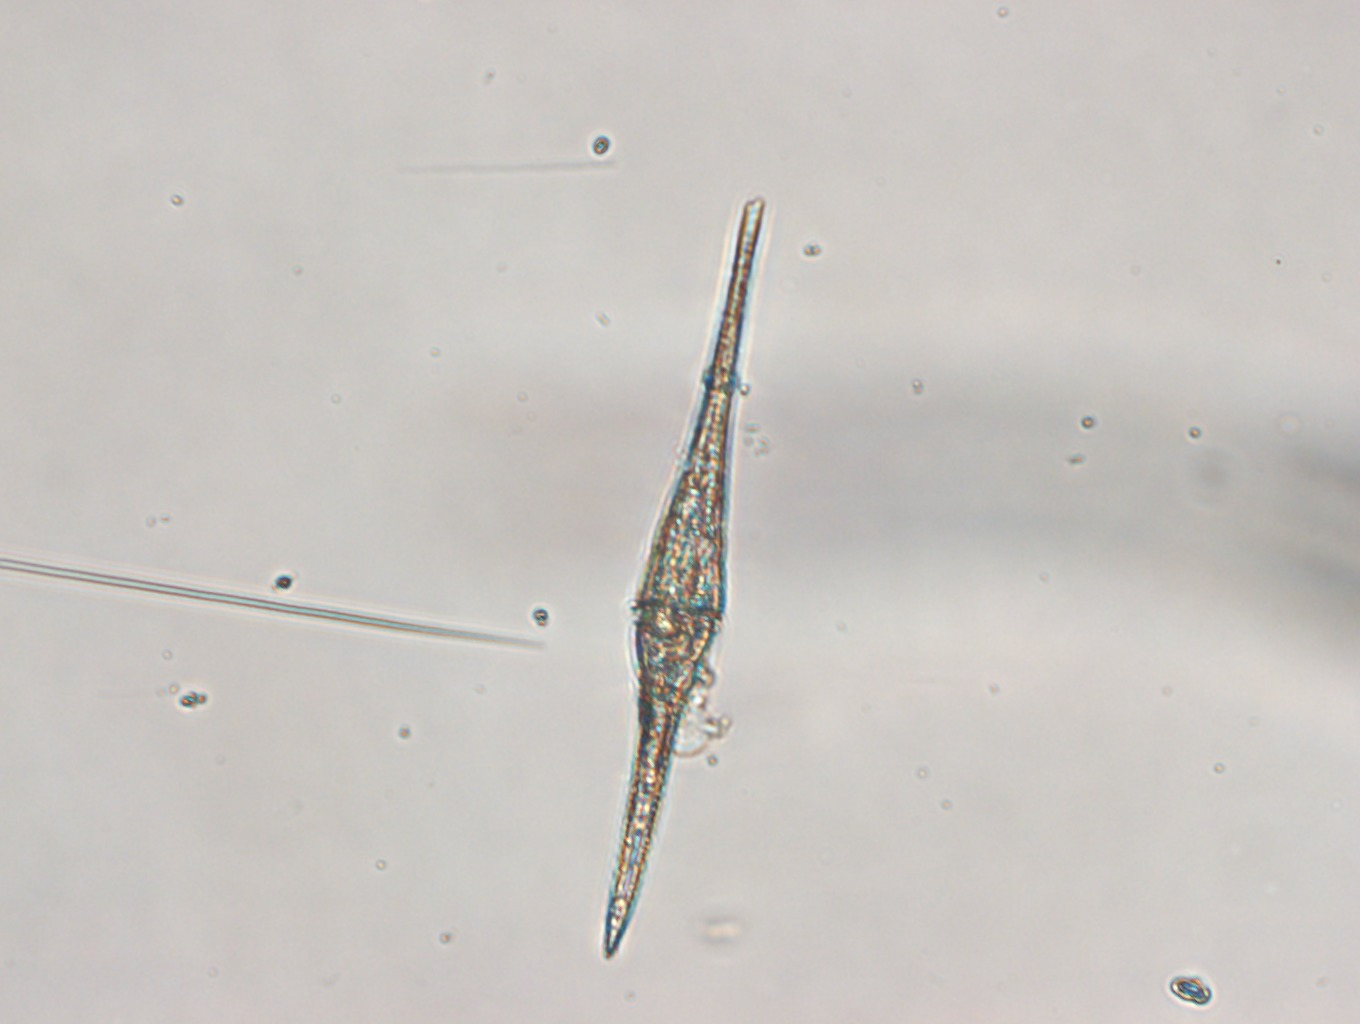ceratium fusus: (605, 195, 765, 965)
